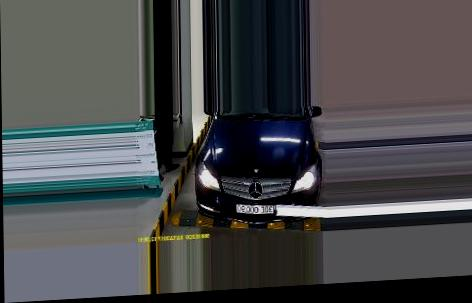License_Plate: (235, 202, 277, 216)
